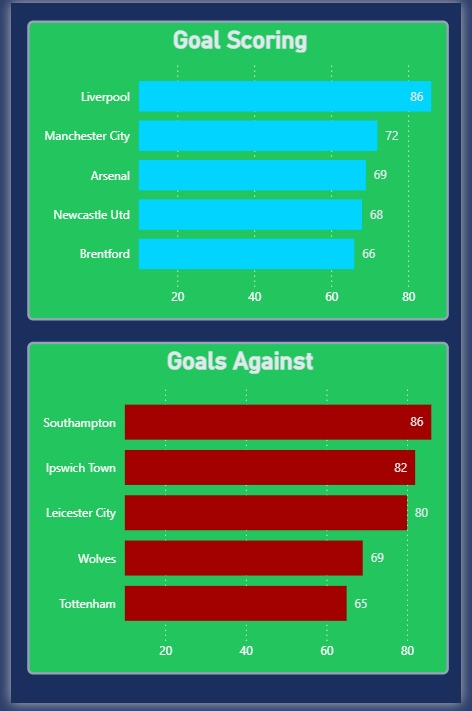

This screenshot's page, from the dashboard's own definition file:
{"tool":"powerbi","page":{"name":"Page 3","canvas":[450,700],"ordinal":2},"visuals":[{"type":"clusteredBarChart","title":"Goal Scoring","fields":{"Category":["premier_league_stats_2024-25.Squad"],"Y":["Sum(premier_league_stats_2024-25.GF)"]},"box":[15.7,17.1,421.4,300],"z":0},{"type":"clusteredBarChart","title":" Goals Against","fields":{"Category":["premier_league_stats_2024-25.Squad"],"Y":["Sum(premier_league_stats_2024-25.GA)"]},"box":[15.7,338.6,421.4,332.9],"z":1000}]}

Visuals, with their boxes in screenshot pixels (x1, y1, x2, y2):
"Goal Scoring" clusteredBarChart: 27, 19, 449, 319
" Goals Against" clusteredBarChart: 27, 341, 449, 674
